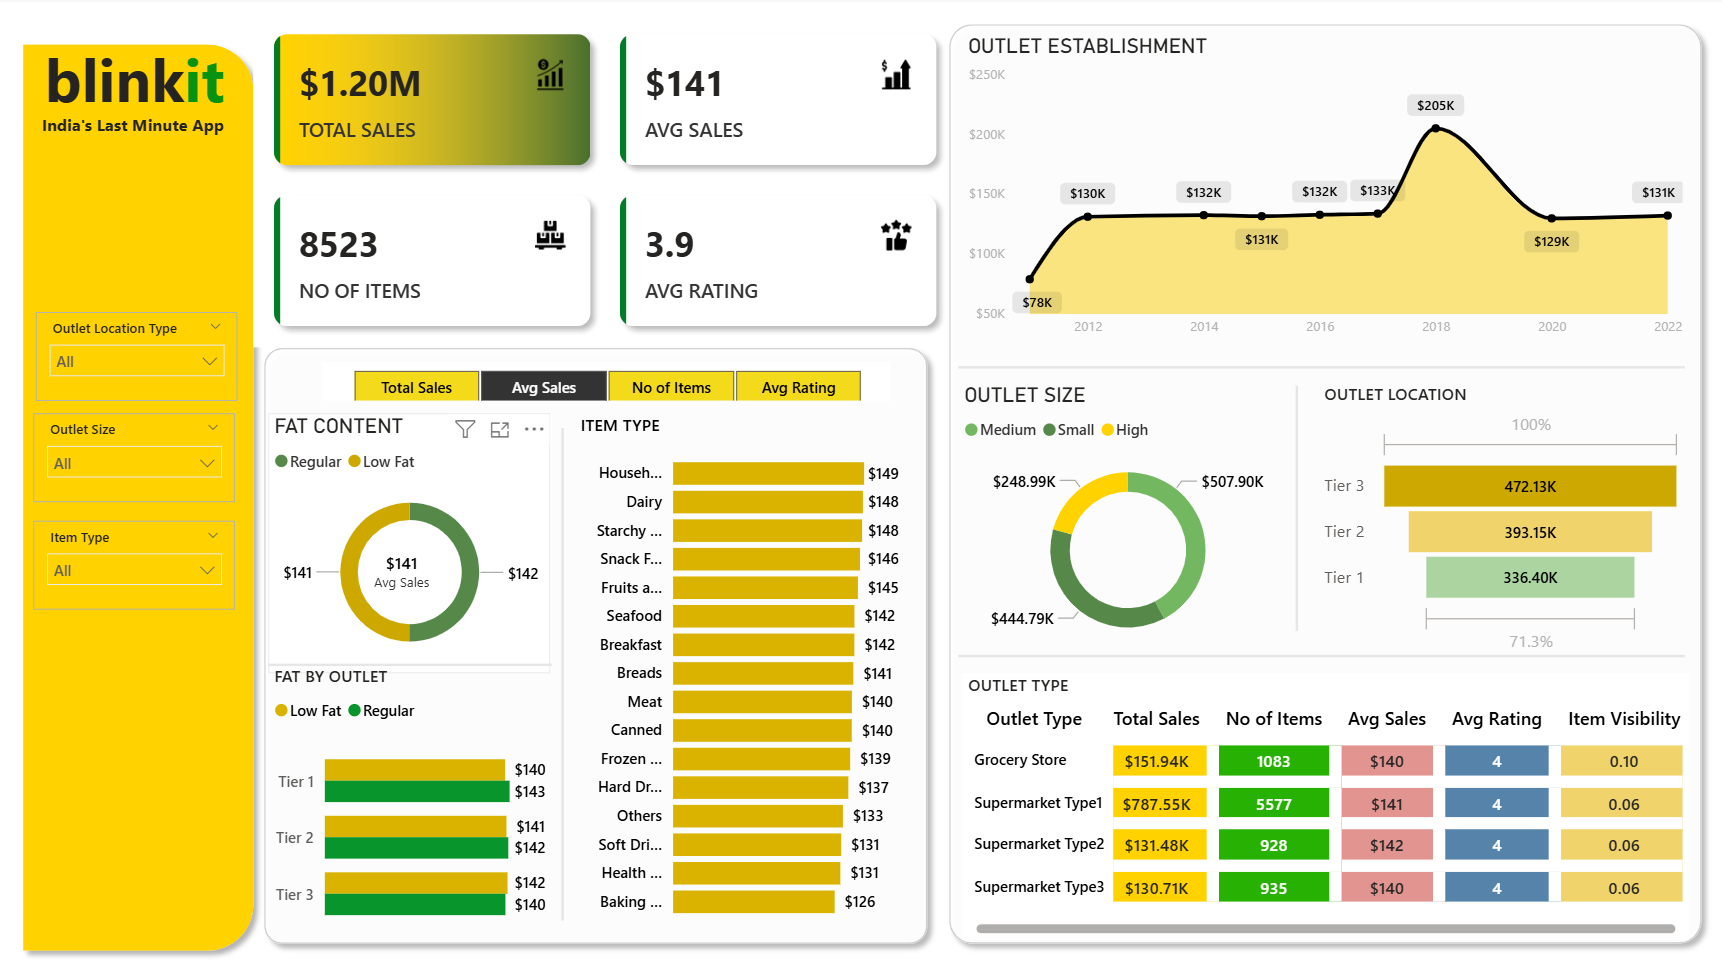

This screenshot's page, from the dashboard's own definition file:
{"tool":"powerbi","page":{"name":"Page 1","canvas":[1400,800],"ordinal":0},"visuals":[{"type":"shape","box":[11.8,29.4,204.5,751.6],"z":0},{"type":"textbox","box":[30,28.5,162.1,75],"z":1000},{"type":"textbox","box":[31.5,88.6,157.6,28.5],"z":2000},{"type":"cardVisual","fields":{"Data":["BlinkIT Grocery Data.Total Sales","BlinkIT Grocery Data.Avg Sales","BlinkIT Grocery Data.No of Items","BlinkIT Grocery Data.Avg Rating"]},"box":[207.1,13.5,570.3,270.2],"z":3000},{"type":"shape","box":[207.4,275.1,554.5,500.1],"z":4000},{"type":"donutChart","title":"FAT CONTENT","fields":{"Y":["BlinkIT Grocery Data.Avg Sales"],"Category":["BlinkIT Grocery Data.Item Fat Content"]},"box":[219.2,336.8,229.5,210.3],"z":5000},{"type":"slicer","fields":{"Values":["Metrics.Metrics"]},"box":[263.3,295.7,460.4,30.9],"z":6000},{"type":"cardVisual","fields":{"Data":["BlinkIT Grocery Data.Avg Sales"]},"box":[263.3,432.4,129.4,63.2],"z":7000},{"type":"clusteredBarChart","title":"FAT BY OUTLET","fields":{"Y":["BlinkIT Grocery Data.Avg Sales"],"Category":["BlinkIT Grocery Data.Outlet Location Type"],"Series":["BlinkIT Grocery Data.Item Fat Content"]},"box":[219.3,540.7,229.6,228.3],"z":8000},{"type":"shape","box":[219.2,525.1,229.5,30.9],"z":9000},{"type":"shape","box":[448.6,348.6,19.1,398.6],"z":10000},{"type":"barChart","title":"ITEM TYPE","fields":{"Y":["BlinkIT Grocery Data.Avg Sales"],"Category":["BlinkIT Grocery Data.Item Type"]},"box":[467.7,336.8,267.7,419.2],"z":11000},{"type":"shape","box":[761.9,13.2,626.6,761.9],"z":12000},{"type":"lineChart","title":"OUTLET  ESTABLISHMENT","fields":{"Category":["BlinkIT Grocery Data.Outlet Establishment Year"],"Y":["BlinkIT Grocery Data.Total Sales"]},"box":[781,29.4,588.4,254.5],"z":13000},{"type":"shape","box":[778.1,283.9,588.4,30.9],"z":14000},{"type":"donutChart","title":"OUTLET SIZE","fields":{"Y":["BlinkIT Grocery Data.Total Sales"],"Category":["BlinkIT Grocery Data.Outlet Size"]},"box":[778.1,311.8,275.1,225],"z":15000},{"type":"shape","box":[1041.4,314.8,22.1,198.6],"z":16000},{"type":"funnel","title":" OUTLET LOCATION","fields":{"Y":["Sum(BlinkIT Grocery Data.Sales)"],"Category":["BlinkIT Grocery Data.Outlet Location Type"]},"box":[1069.3,311.8,300.1,225],"z":17000},{"type":"shape","box":[778.1,517.8,588.4,30.9],"z":17001},{"type":"pivotTable","title":"OUTLET TYPE","fields":{"Rows":["BlinkIT Grocery Data.Outlet Type"],"Values":["BlinkIT Grocery Data.Total Sales","BlinkIT Grocery Data.No of Items","BlinkIT Grocery Data.Avg Sales","BlinkIT Grocery Data.Avg Rating","Avg(BlinkIT Grocery Data.Item Visibility)"]},"box":[781,547.2,588.4,216.2],"z":17002},{"type":"slicer","fields":{"Values":["BlinkIT Grocery Data.Outlet Location Type"]},"box":[30.9,254.5,163.3,72.1],"z":17003},{"type":"slicer","fields":{"Values":["BlinkIT Grocery Data.Outlet Size"]},"box":[29.4,336.8,163.3,72.1],"z":17004},{"type":"slicer","fields":{"Values":["BlinkIT Grocery Data.Item Type"]},"box":[29.4,423.6,163.3,72.1],"z":17005}]}

Visuals, with their boxes in screenshot pixels (x1, y1, x2, y2), scaled from the page's 1400x800 canvas onto the 1722x969 screenshot:
shape: bbox=(15, 36, 266, 946)
textbox: bbox=(37, 35, 236, 125)
textbox: bbox=(39, 107, 233, 142)
cardVisual - BlinkIT Grocery Data.Total Sales x BlinkIT Grocery Data.Avg Sales: bbox=(255, 16, 956, 344)
shape: bbox=(255, 333, 937, 939)
"FAT CONTENT" donutChart: bbox=(270, 408, 552, 663)
slicer - Metrics.Metrics: bbox=(324, 358, 890, 396)
cardVisual - BlinkIT Grocery Data.Avg Sales: bbox=(324, 524, 483, 600)
"FAT BY OUTLET" clusteredBarChart: bbox=(270, 655, 552, 931)
shape: bbox=(270, 636, 552, 673)
shape: bbox=(552, 422, 575, 905)
"ITEM TYPE" barChart: bbox=(575, 408, 905, 916)
shape: bbox=(937, 16, 1708, 939)
"OUTLET  ESTABLISHMENT" lineChart: bbox=(961, 36, 1684, 344)
shape: bbox=(957, 344, 1681, 381)
"OUTLET SIZE" donutChart: bbox=(957, 378, 1295, 650)
shape: bbox=(1281, 381, 1308, 622)
" OUTLET LOCATION" funnel: bbox=(1315, 378, 1684, 650)
shape: bbox=(957, 627, 1681, 665)
"OUTLET TYPE" pivotTable: bbox=(961, 663, 1684, 925)
slicer - BlinkIT Grocery Data.Outlet Location Type: bbox=(38, 308, 239, 396)
slicer - BlinkIT Grocery Data.Outlet Size: bbox=(36, 408, 237, 495)
slicer - BlinkIT Grocery Data.Item Type: bbox=(36, 513, 237, 600)
